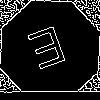E: (25, 25, 72, 80)
